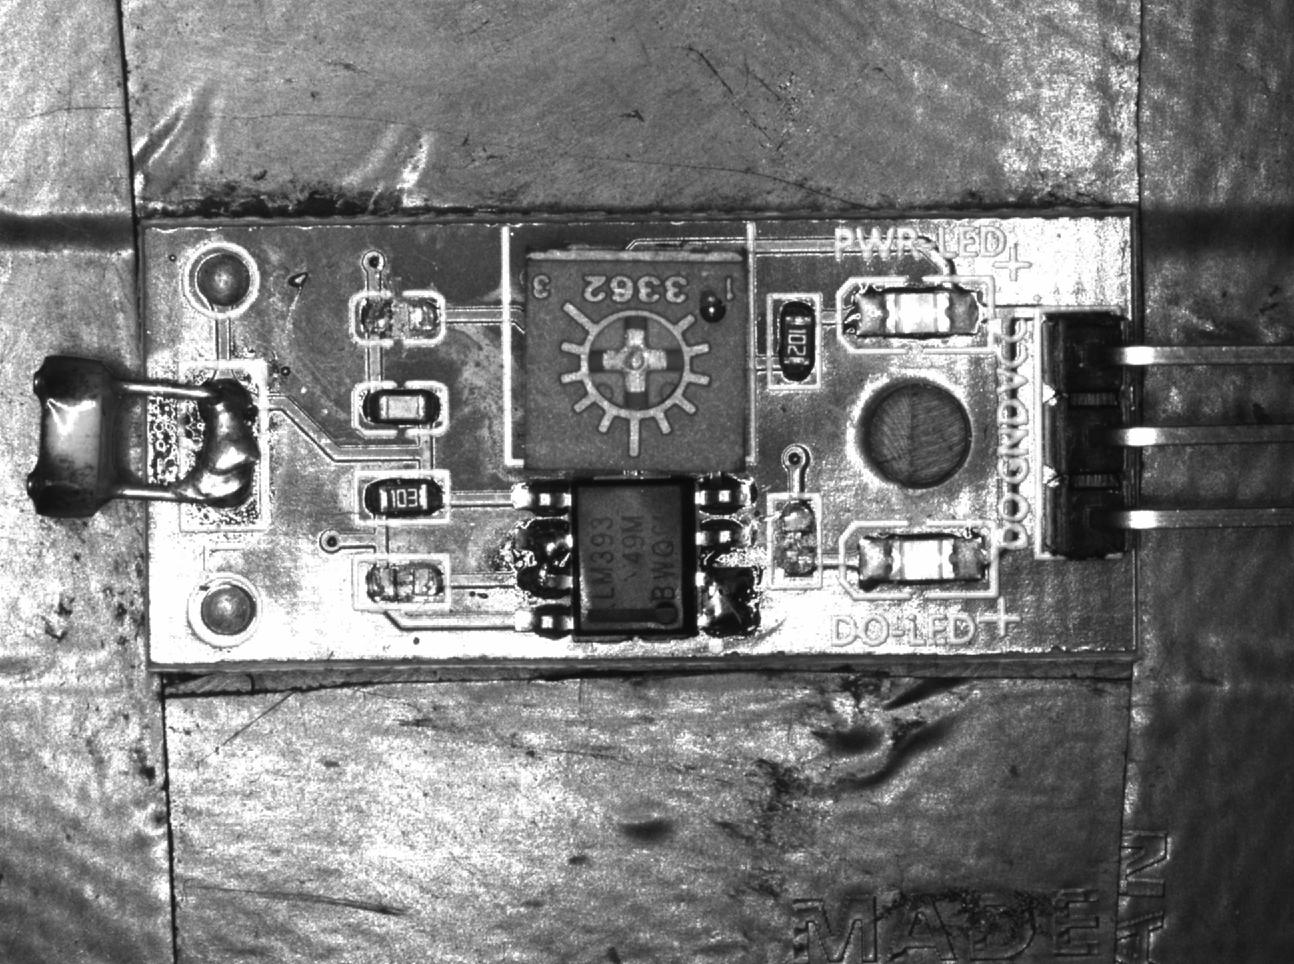bridge: (178, 360, 261, 531), (698, 561, 759, 643), (513, 518, 569, 599)
miss: (355, 549, 444, 610), (344, 295, 440, 343), (769, 495, 818, 584)
ok: (353, 468, 446, 525), (769, 293, 819, 393), (353, 383, 451, 433)
